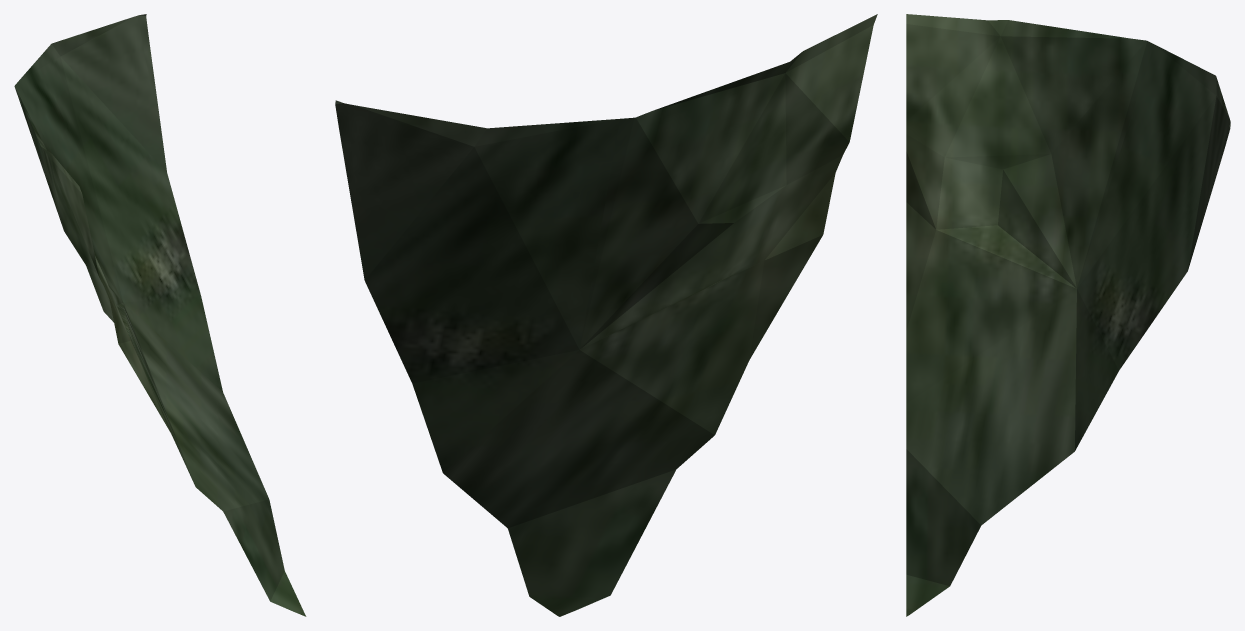
3 views of the same model, side by side, from view 1: azimuth 30°, elevation 25°; view 2: azimuth 150°, elevation 25°; view 3: azimuth 270°, elevation 25° (orthographic). The views are drawn at different scales.
Bounding box in the file's own units: 0.8278 × 1.69 × 1.01.
Materials: 1 (1 with a texture image).
